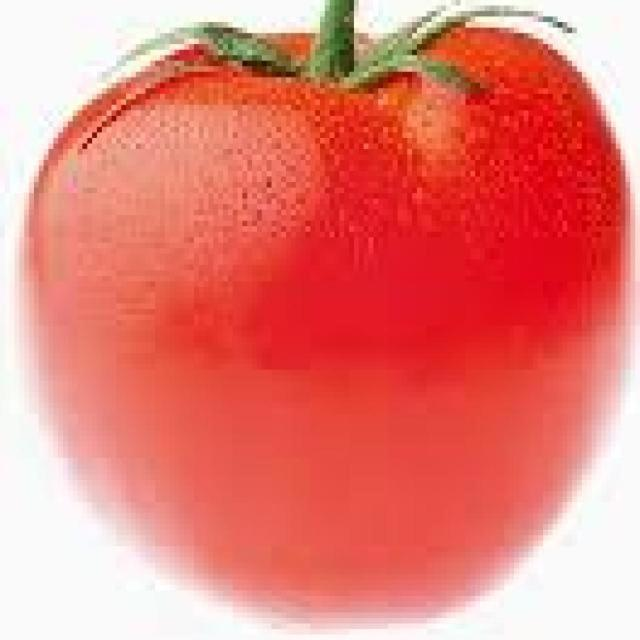Healthy Fruit: (23, 4, 427, 414)
